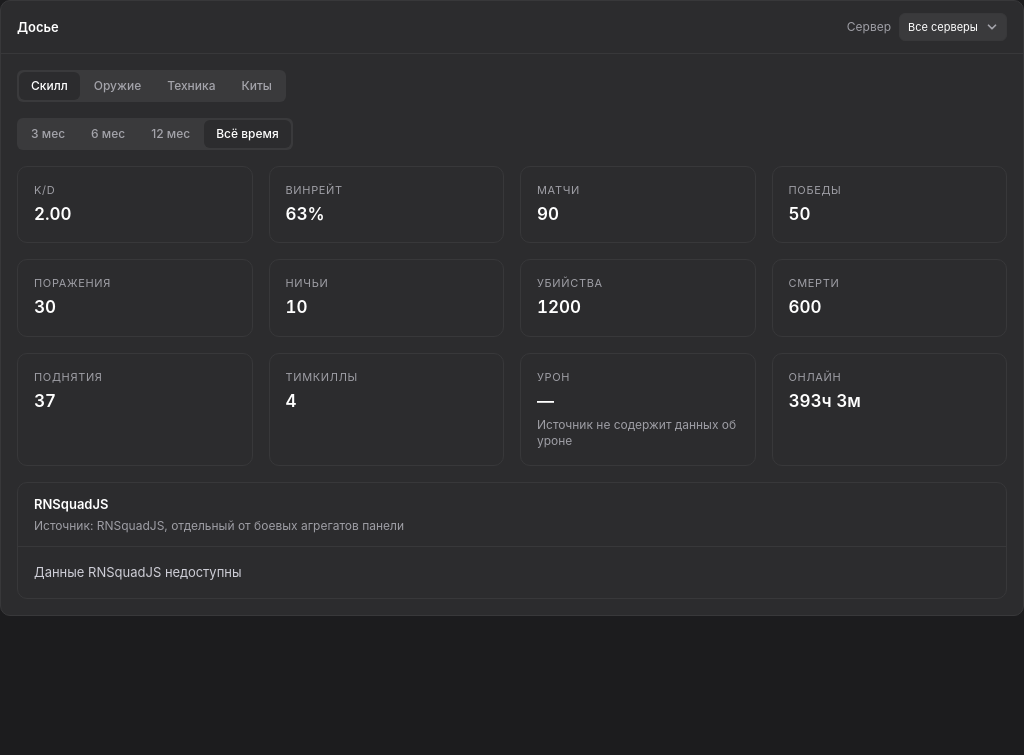
Scenario: DossierSection › weapons tab reports how many of the total weapons are shown
Expected: the text "K/D" is shown, [34,183,55,197]
Step 1. Click the tab "Оружие" → point(117, 86), box [82,72,153,100]
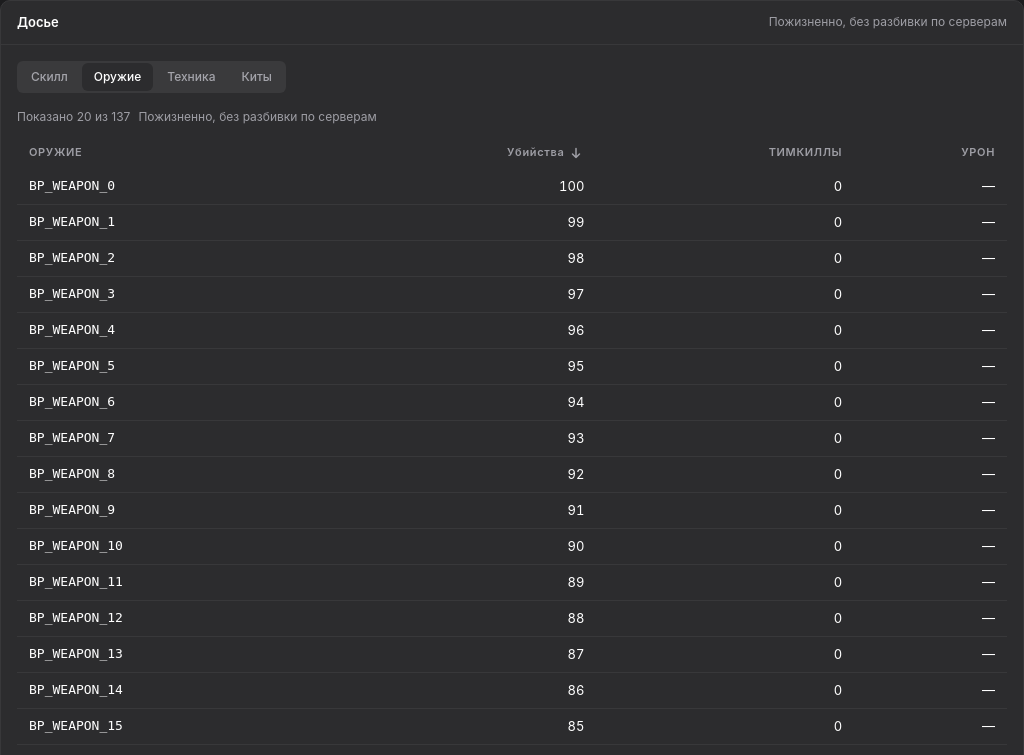
Expected: the text "Показано 20 из 137" is shown, [17,109,130,124]
